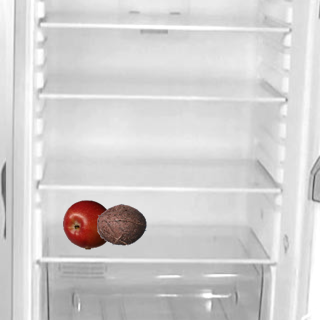Apple Braeburn: (62, 199, 112, 249)
Cocos: (96, 199, 146, 249)
